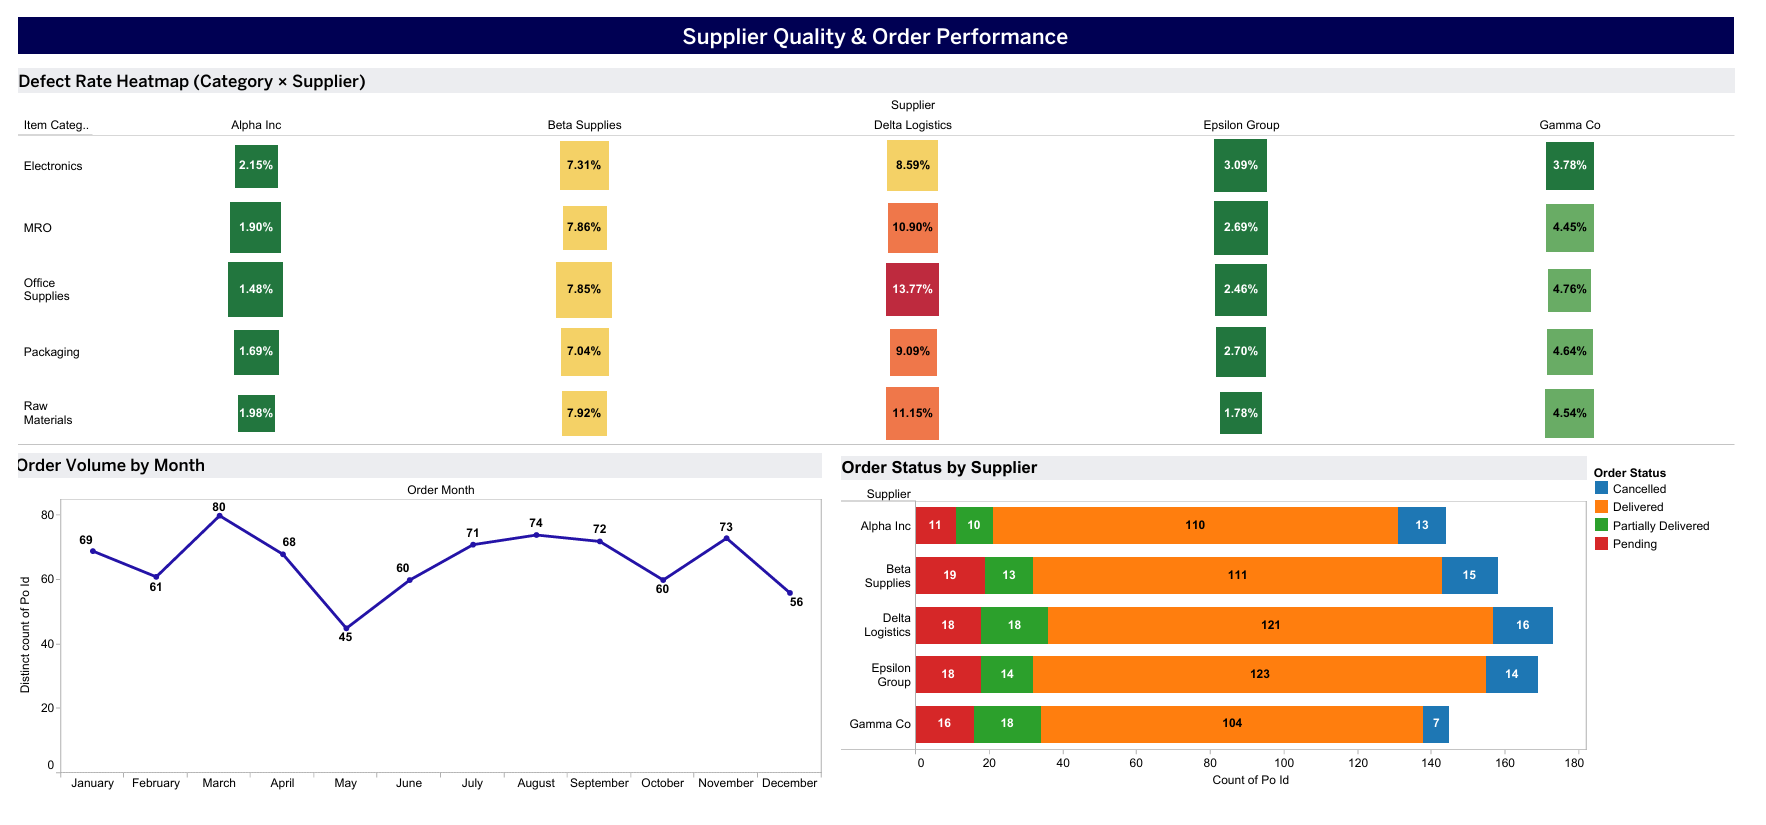

This screenshot's page, from the dashboard's own definition file:
{"tool":"tableau","page":{"name":"Dashboard 2","canvas":[1000,1000],"units":"permille","ordinal":1},"visuals":[{"type":"text","box":[15.1,15.3,965,51.7]},{"type":"worksheet","title":"Sheet 9","mark":"Bar","rows":["Supplier"],"cols":["Lead_Time_Days"],"box":[12.7,90.5,421.2,453.6]},{"type":"worksheet","title":"Sheet 12","mark":"GanttBar","cols":["Item_Category"],"box":[459.9,90.5,522,438.3]},{"type":"legend","title":"Sheet 10","param":"[federated.1jhp7oa0ofrbhz1gift5g0305rtj].[:Measure Names]","box":[450.1,577,91.6,65.8]},{"type":"worksheet","title":"Sheet 7","mark":"Automatic","rows":["Supplier"],"box":[543.8,577,436.9,367.8]},{"type":"worksheet","title":"Sheet 10","mark":"Bar","rows":["Total_Spend"],"cols":["Item_Category"],"box":[7.1,579.3,428.1,407.8]}]}

Visuals, with their boxes on the dashboard's canvas, which has no fixed pixel size, in thousandths of its width and height (x1, y1, x2, y2). These are canvas units, not pixel positions in the 1766x825 screenshot, which may show the page scaled, cropped or inside an application window:
text: Rect(15, 15, 980, 67)
"Sheet 9" worksheet (Bar marks): Rect(13, 90, 434, 544)
"Sheet 12" worksheet (GanttBar marks): Rect(460, 90, 982, 529)
"Sheet 10" legend: Rect(450, 577, 542, 643)
"Sheet 7" worksheet: Rect(544, 577, 981, 945)
"Sheet 10" worksheet (Bar marks): Rect(7, 579, 435, 987)
